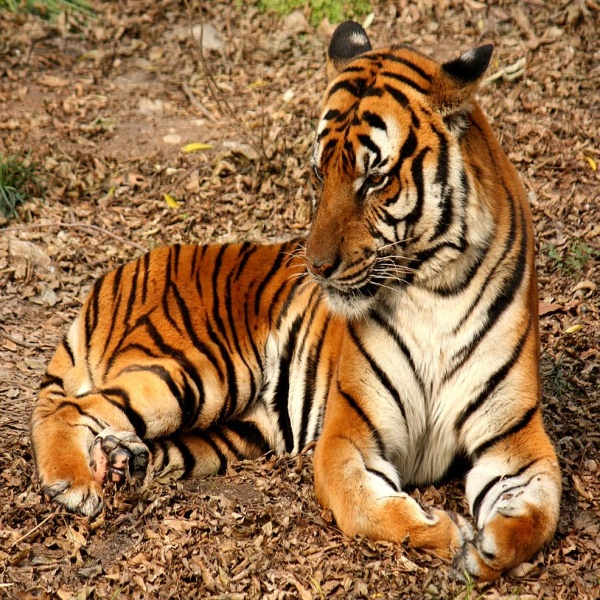Tiger: (29, 17, 567, 585)
